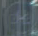bike lane: (1, 0, 37, 34)
